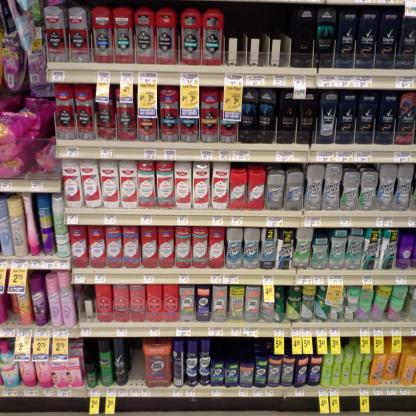Void: (224, 8, 289, 64), (214, 337, 252, 356), (127, 341, 143, 384), (81, 288, 95, 320)
